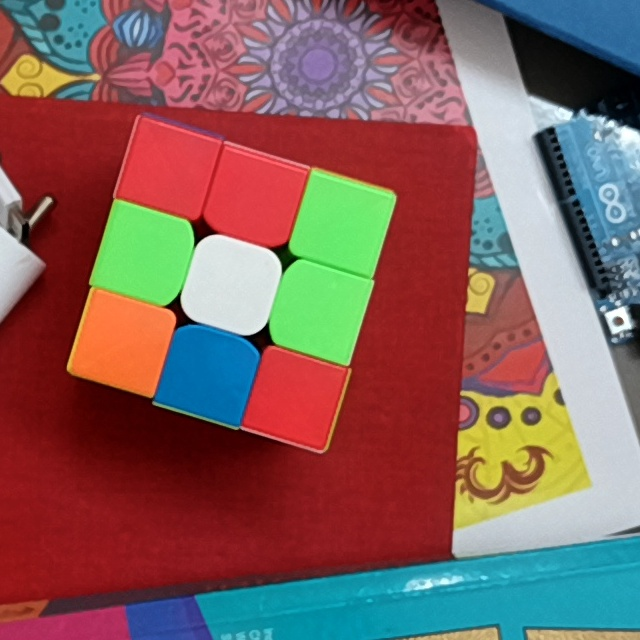tile: (309, 192, 377, 257), (287, 277, 352, 343), (89, 310, 155, 375), (110, 223, 178, 286), (222, 167, 287, 231), (201, 252, 264, 318), (264, 366, 329, 428), (178, 341, 245, 401), (139, 140, 201, 201)
